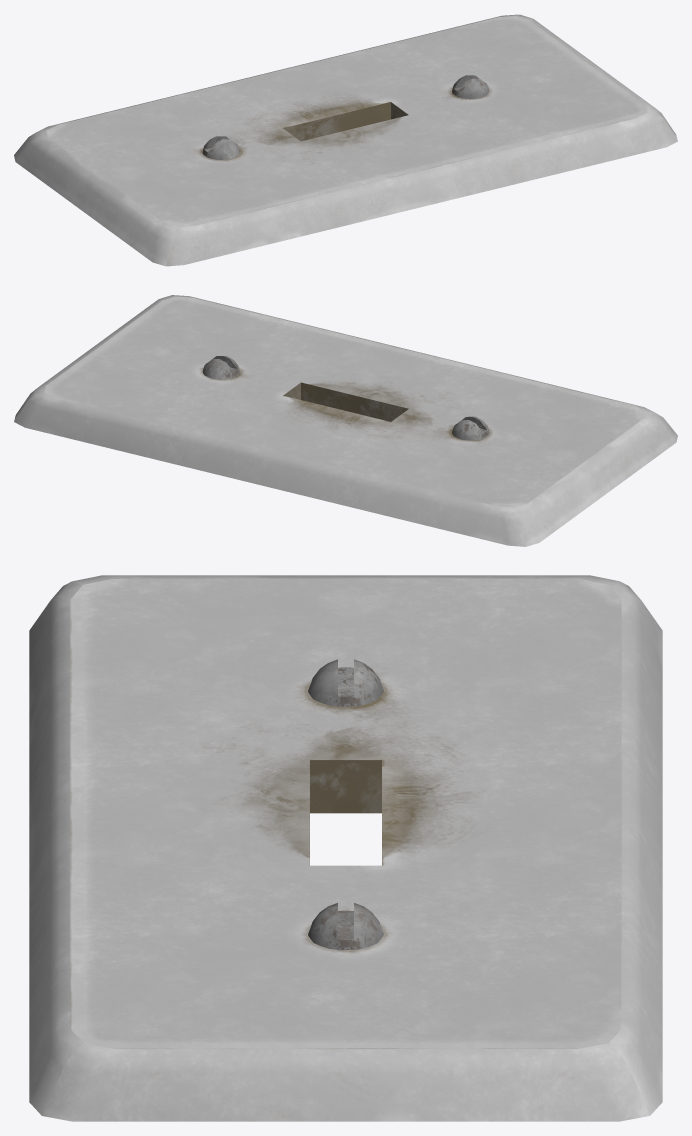
Rendered from SwitchP1.glb.
3 views of the same model, one above another, from view 1: azimuth 30°, elevation 25°; view 2: azimuth 150°, elevation 25°; view 3: azimuth 270°, elevation 25° (orthographic). The views are drawn at different scales.
Visible parts, largest first — view 1: Object_2; view 2: Object_2; view 3: Object_2.
Part boxes in pixels (x1=…): Object_2: x1=14, y1=14, x2=677, y2=266; Object_2: x1=14, y1=295, x2=677, y2=546; Object_2: x1=29, y1=575, x2=662, y2=1121.
Size of the model in its own units: 2.1 by 0.1565 by 1.1.
Materials: 1 (1 with a texture image).
